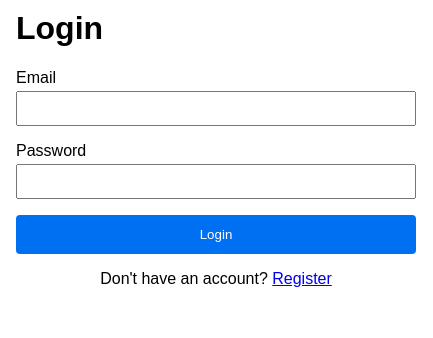
Test: Login Page › shows error on login failure
In the field labelled "Email": coordinates (216, 108) [16,91,416,126], type "bad@example.com"
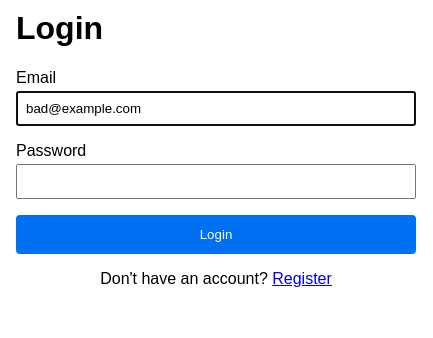
In the password field labelled "Password": coordinates (216, 181) [16,164,416,199], type "wrong"
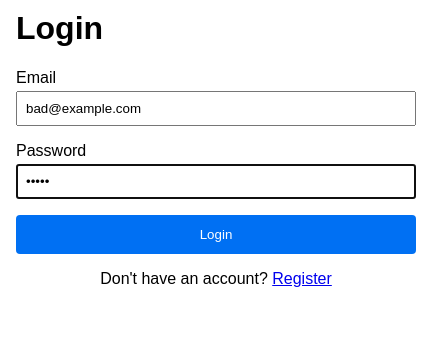
Click the button "Login": coordinates (216, 234) [16,215,416,254]
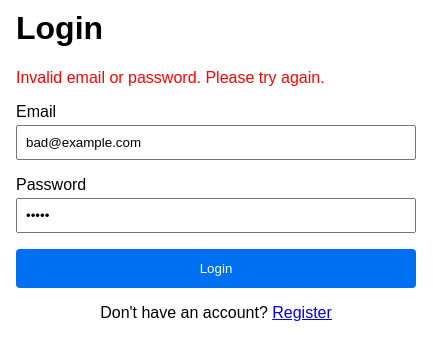
Expected: the text "Invalid email or password. Please try again." is shown, [16,69,325,86]
